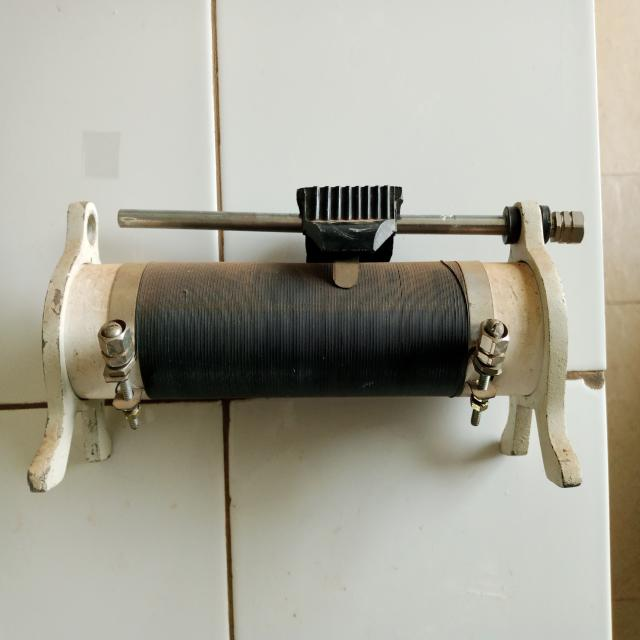Rheostat: (14, 177, 613, 503)
